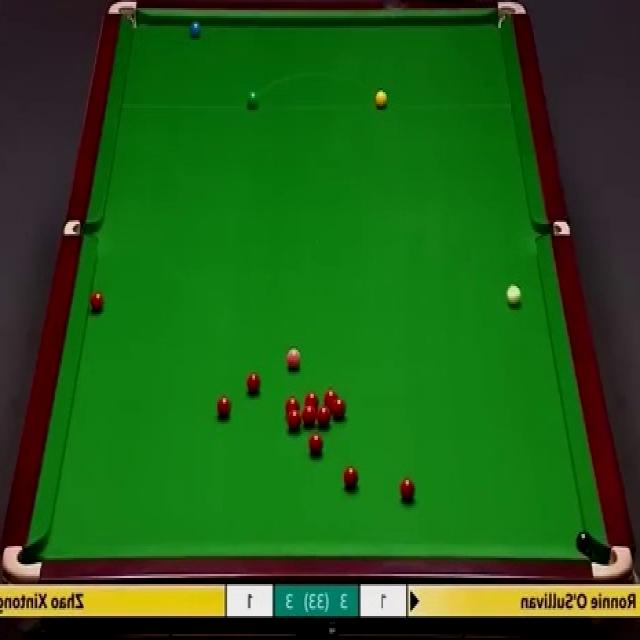pocket: (1, 543, 43, 585), (591, 542, 634, 578), (494, 0, 528, 31), (108, 0, 140, 32), (534, 221, 570, 237), (64, 220, 99, 235)
